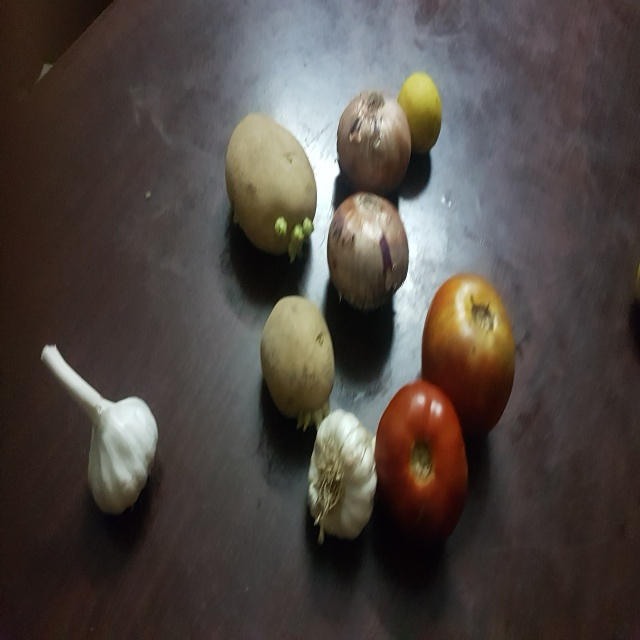garlic: (36, 343, 169, 519), (307, 404, 392, 546)
lemon: (394, 71, 445, 156)
onion: (325, 186, 422, 308), (336, 85, 414, 201)
potato: (228, 113, 317, 263), (259, 294, 344, 429)
tomato: (366, 381, 490, 554), (420, 275, 532, 441)
